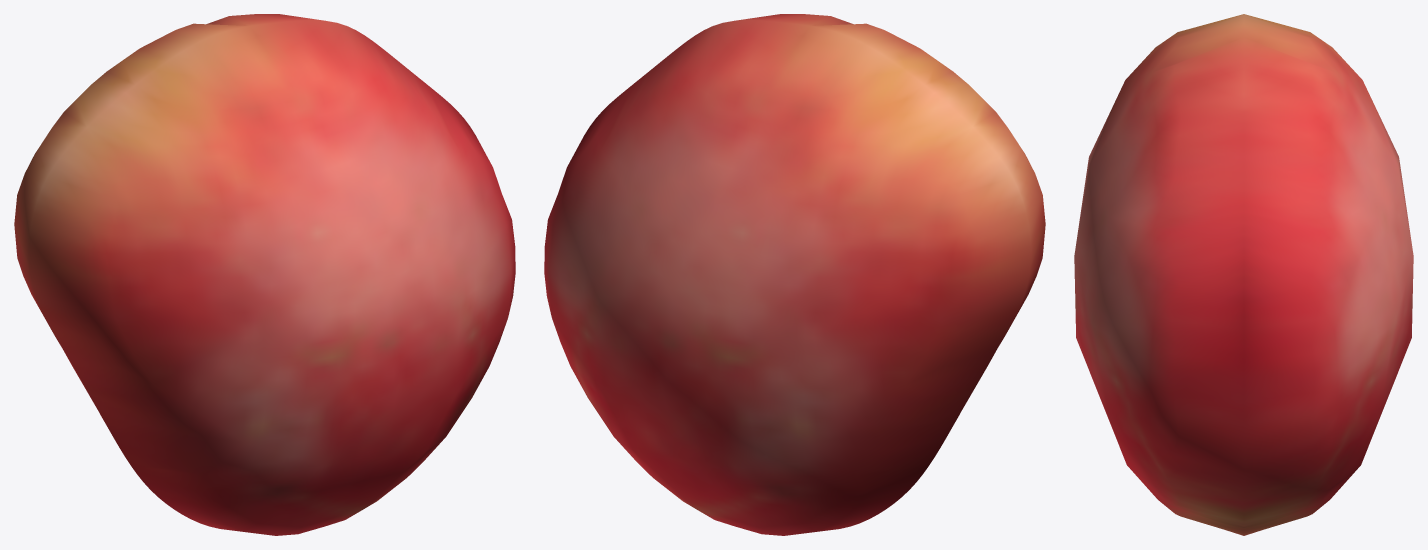
File: Maduro.glb
3 views of the same model, side by side, from view 1: azimuth 30°, elevation 25°; view 2: azimuth 150°, elevation 25°; view 3: azimuth 270°, elevation 25° (orthographic). The views are drawn at different scales.
Visible parts, largest first — view 1: mm_frame.001; view 2: mm_frame.001; view 3: mm_frame.001.
Boxes of the visible parts, x1=… form: mm_frame.001: x1=14, y1=14, x2=515, y2=535; mm_frame.001: x1=544, y1=14, x2=1045, y2=535; mm_frame.001: x1=1074, y1=14, x2=1413, y2=535.
Bounding box in the file's own units: 0.6074 × 0.627 × 0.4103.
1 material, 1 textured.
